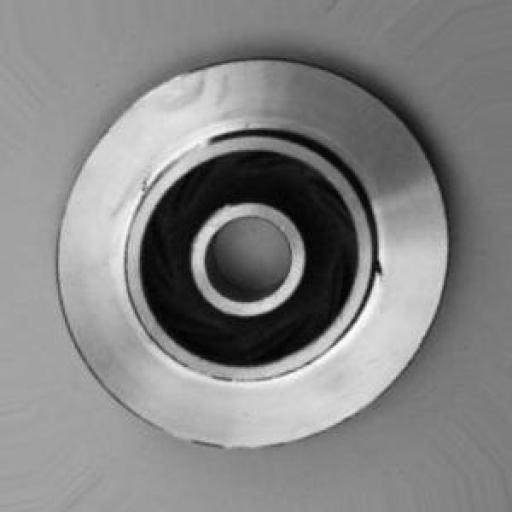defect: (360, 231, 398, 313)
